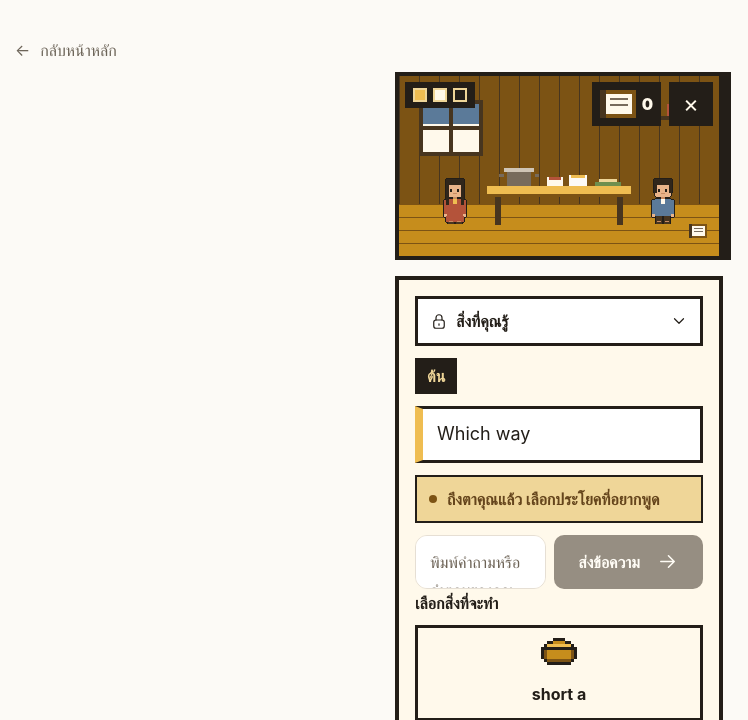
Scenario: shows short labels on cards and the verbatim sentence before committing
The image size is (748, 720).
Click the radio button labelled "short a": point(559, 651) [415,625,703,719]
(page scrolled)
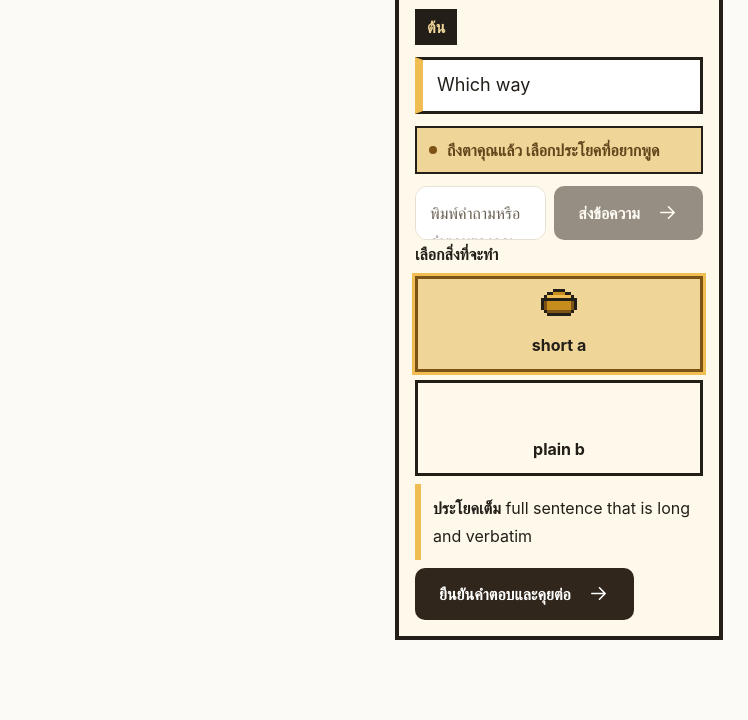
Expected: the element showing "ประโยคเต็ม full sentence that is long and verbatim" is shown, [415,484,703,560]
